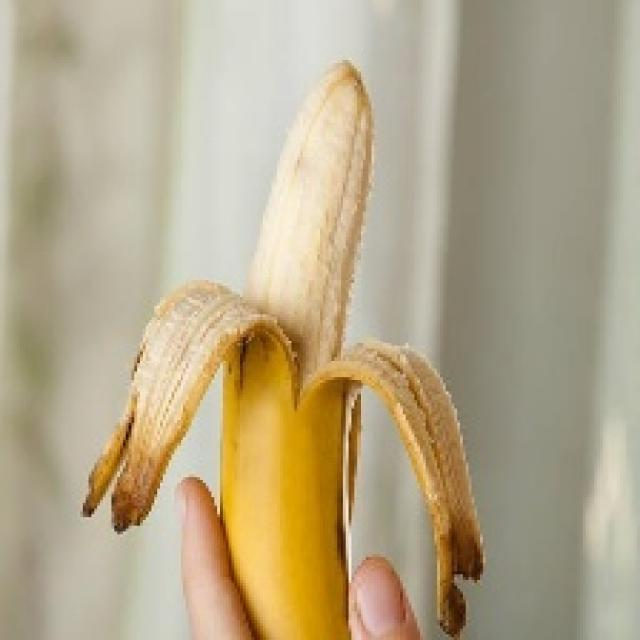Banana: (80, 57, 486, 637)
